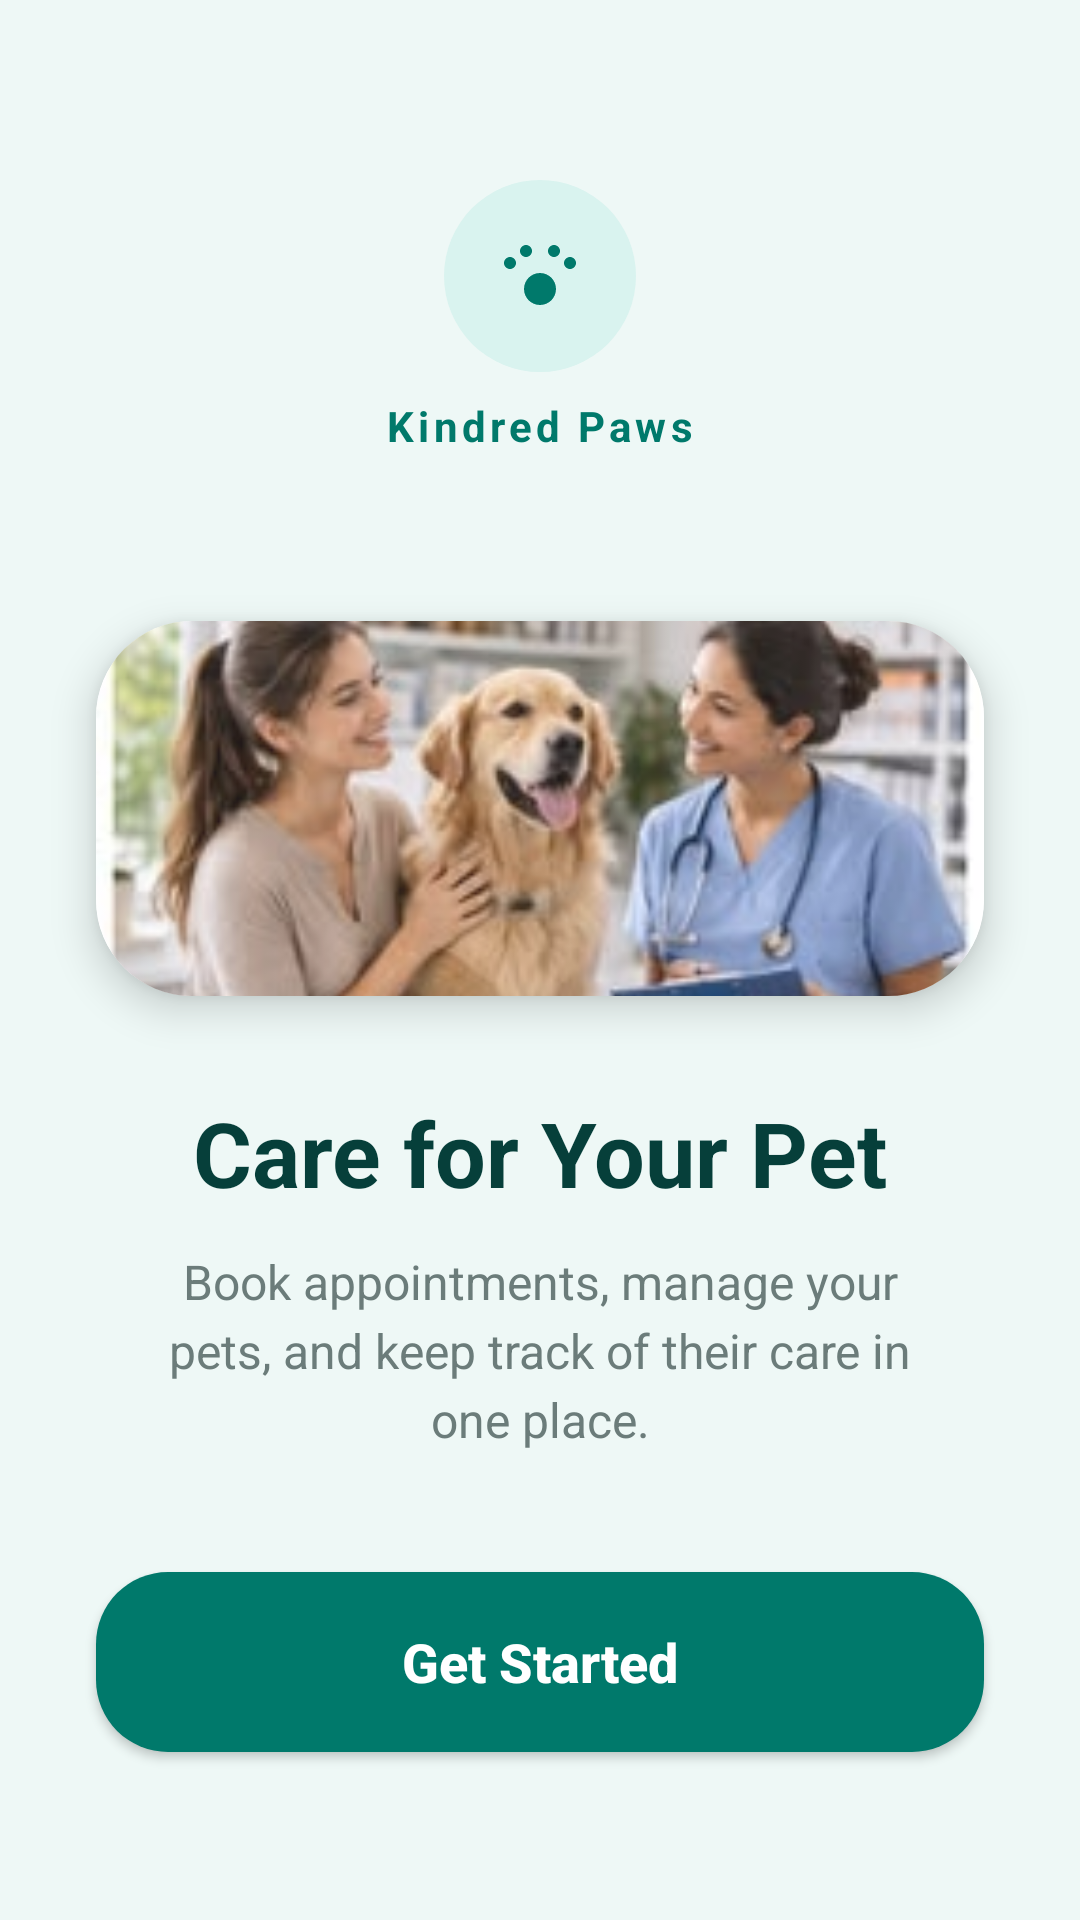

Where to tap for icons on this 1080 × 1920 app screen, as [x,y]:
paw: [540,275]
